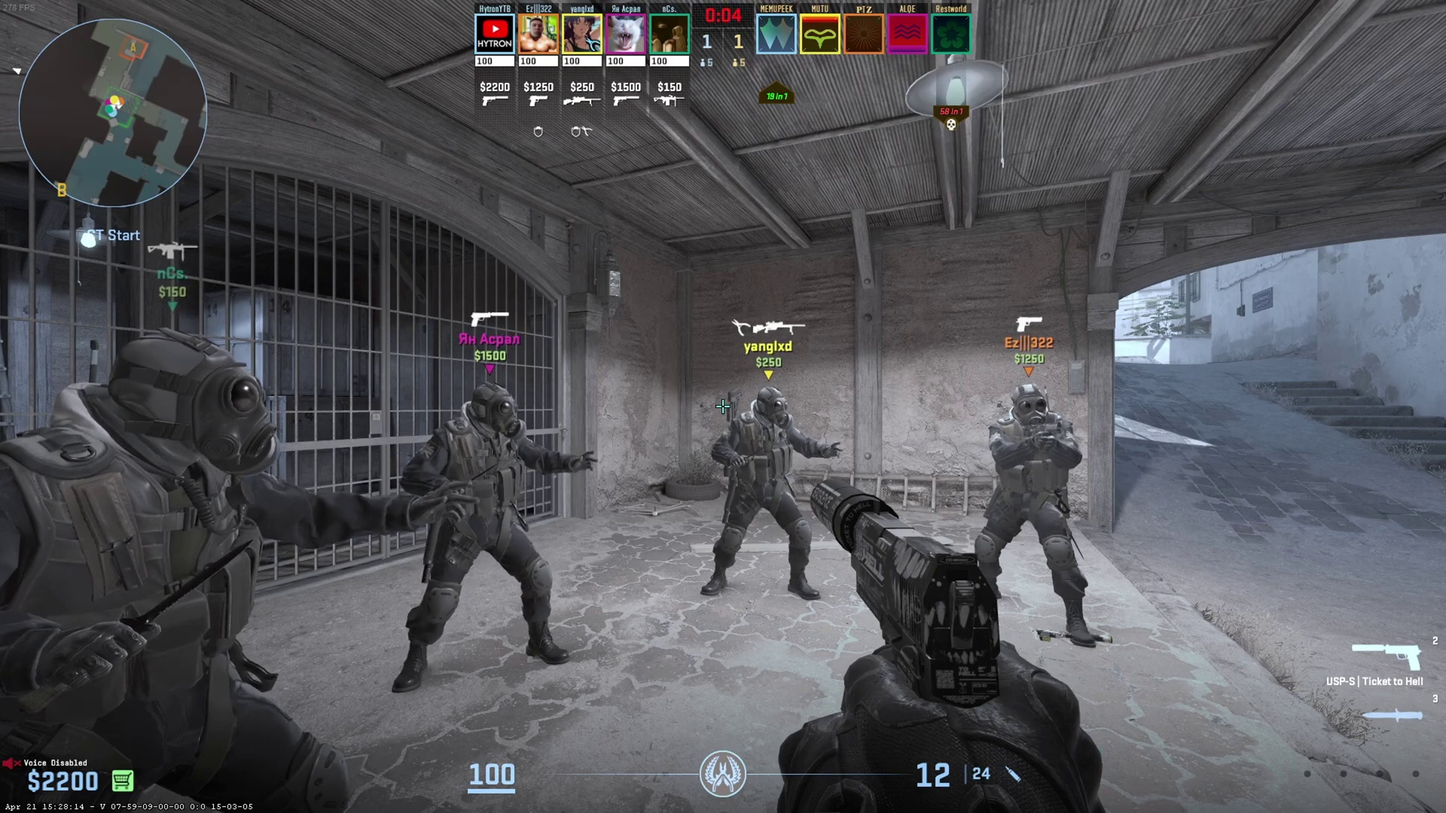CT: (0, 326, 346, 811), (406, 383, 570, 689), (985, 383, 1096, 645), (705, 386, 819, 598)
